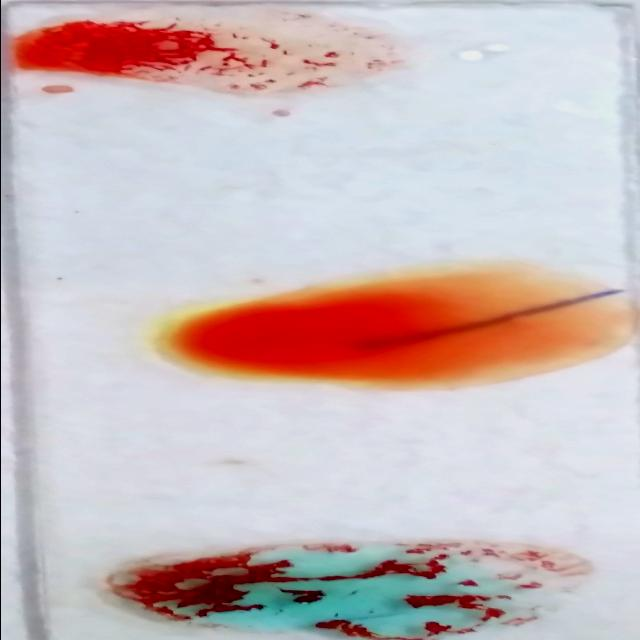A: (95, 540, 581, 638)
D: (9, 13, 408, 98)
